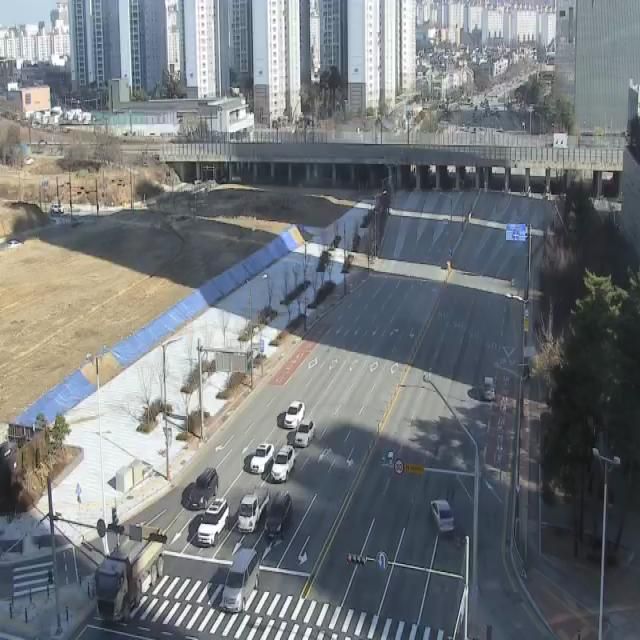Car: (222, 548, 260, 613), (198, 498, 230, 546), (264, 491, 294, 538), (189, 466, 219, 509), (270, 445, 296, 482), (430, 499, 456, 533), (250, 443, 274, 473), (284, 401, 304, 429), (295, 419, 315, 446), (483, 378, 496, 400)
Truck: (89, 526, 164, 627), (237, 486, 270, 532)
